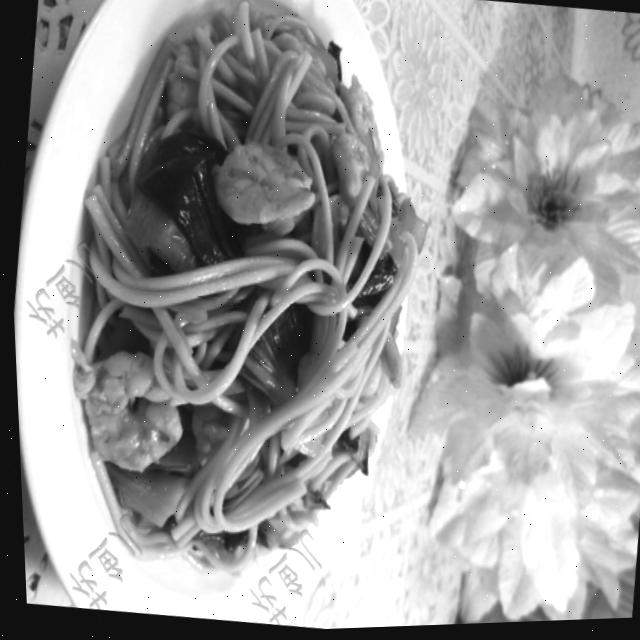面条主食: (31, 0, 452, 596)
